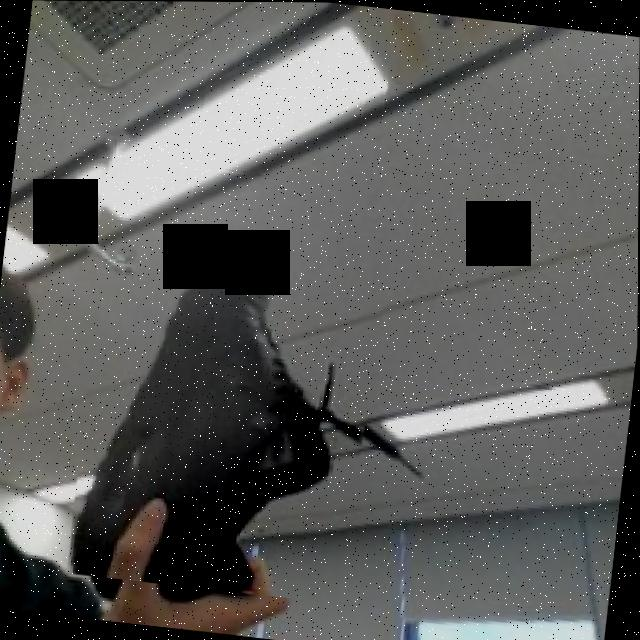shoe: (67, 208, 393, 605)
